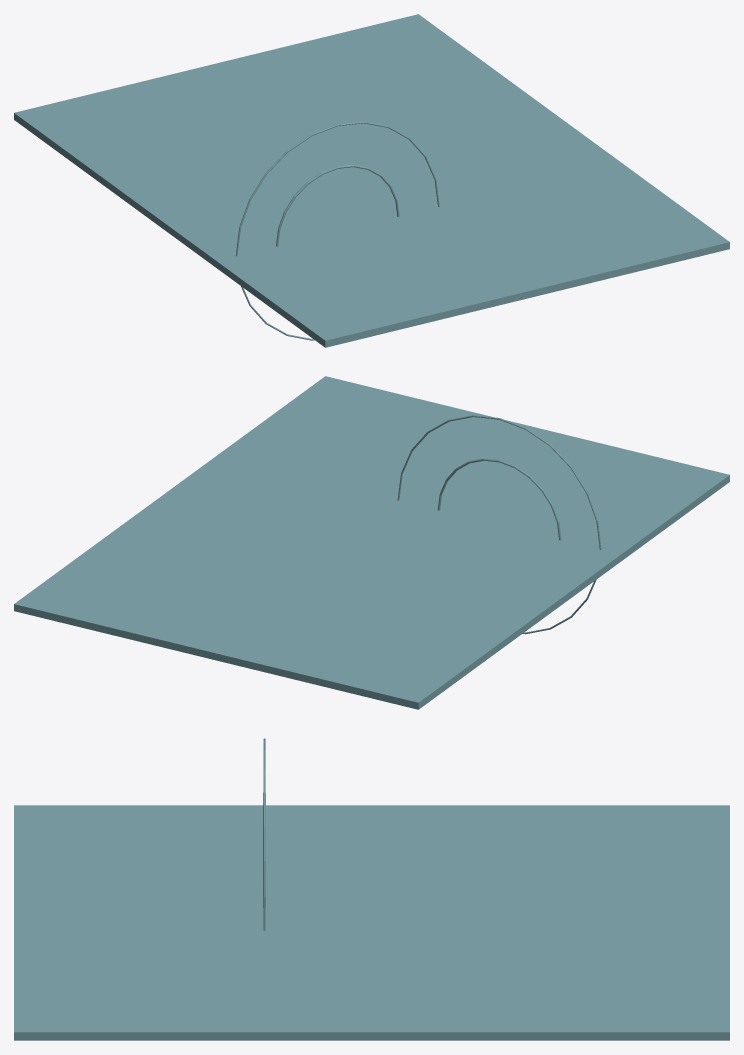
The model's file is env_canal_water_surface.glb.
The picture shows the model from 3 angles, top to bottom: view 1: azimuth 30°, elevation 25°; view 2: azimuth 150°, elevation 25°; view 3: azimuth 270°, elevation 25°; orthographic projection. The views are drawn at different scales.
Visible parts, largest first — view 1: env_canal_water_surface/canal_water_plane_00000, env_canal_water_surface/canal_ripple_ring_2_00002, env_canal_water_surface/canal_ripple_ring_1_00001; view 2: env_canal_water_surface/canal_water_plane_00000, env_canal_water_surface/canal_ripple_ring_2_00002, env_canal_water_surface/canal_ripple_ring_1_00001; view 3: env_canal_water_surface/canal_water_plane_00000, env_canal_water_surface/canal_ripple_ring_2_00002.
Part boxes in pixels (x1=…): env_canal_water_surface/canal_water_plane_00000: x1=14, y1=14, x2=729, y2=347; env_canal_water_surface/canal_ripple_ring_2_00002: x1=235, y1=121, x2=439, y2=340; env_canal_water_surface/canal_ripple_ring_1_00001: x1=276, y1=164, x2=399, y2=246; env_canal_water_surface/canal_water_plane_00000: x1=14, y1=376, x2=729, y2=709; env_canal_water_surface/canal_ripple_ring_2_00002: x1=397, y1=415, x2=601, y2=634; env_canal_water_surface/canal_ripple_ring_1_00001: x1=437, y1=458, x2=561, y2=540; env_canal_water_surface/canal_water_plane_00000: x1=14, y1=805, x2=729, y2=1040; env_canal_water_surface/canal_ripple_ring_2_00002: x1=263, y1=738, x2=265, y2=930.
Size of the model in its own units: 3 by 1.51 by 4.
